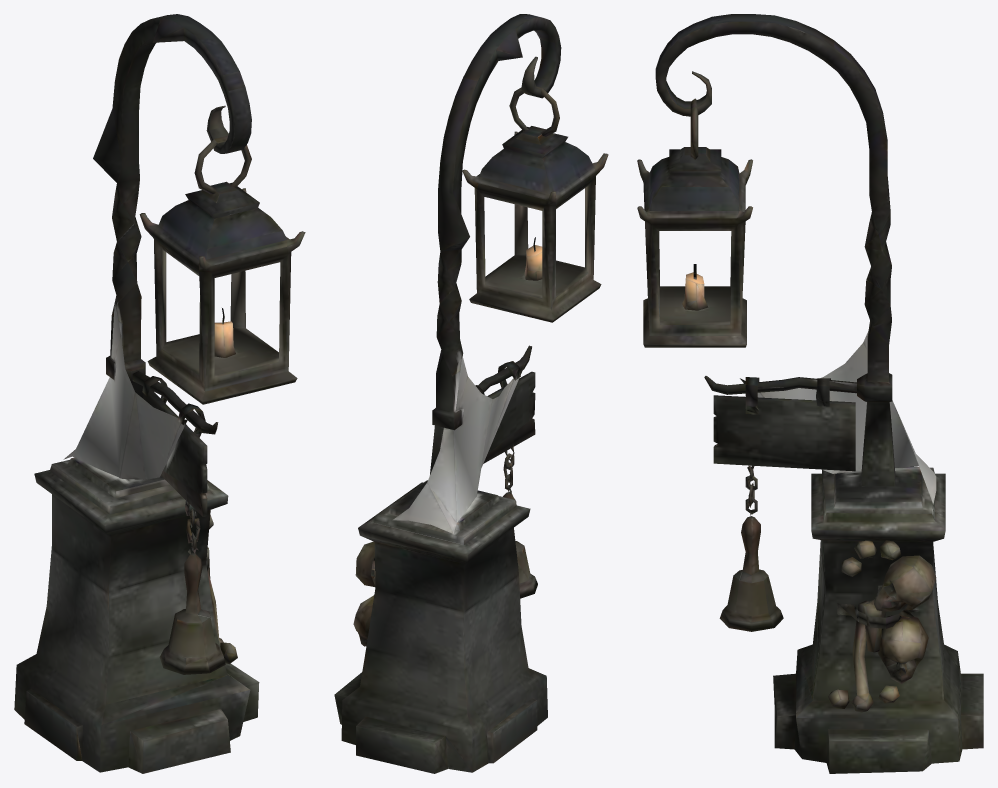
Rendered from grave_lantern.glb.
3 views of the same model, side by side, from view 1: azimuth 30°, elevation 25°; view 2: azimuth 150°, elevation 25°; view 3: azimuth 270°, elevation 25° (orthographic). The views are drawn at different scales.
Visible parts, largest first — view 1: tripo_node_f09b1c9d-babc-4da6-b9f0-985cee787283; view 2: tripo_node_f09b1c9d-babc-4da6-b9f0-985cee787283; view 3: tripo_node_f09b1c9d-babc-4da6-b9f0-985cee787283.
Part boxes in pixels (x1,y1,x2,y2): tripo_node_f09b1c9d-babc-4da6-b9f0-985cee787283: (14,14,305,773); tripo_node_f09b1c9d-babc-4da6-b9f0-985cee787283: (334,14,608,773); tripo_node_f09b1c9d-babc-4da6-b9f0-985cee787283: (637,14,983,773).
Bounding box in the file's own units: 0.2559 × 0.998 × 0.4434.
Materials: 1 (1 with a texture image).
